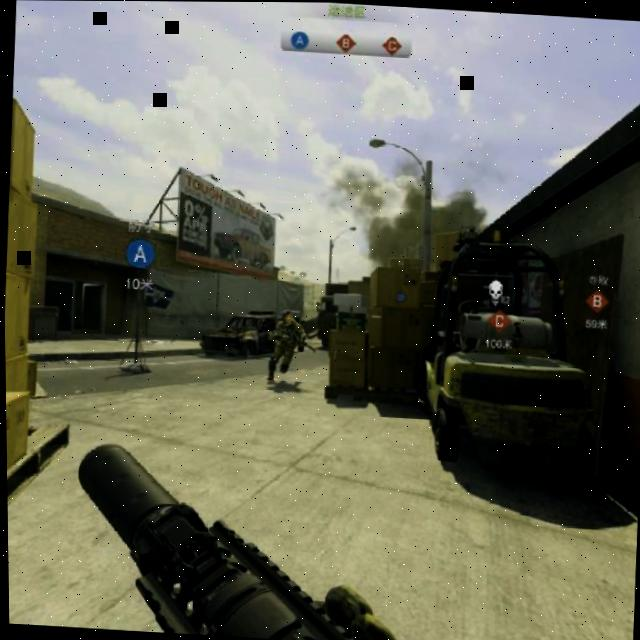MW2_body: (267, 308, 307, 381)
